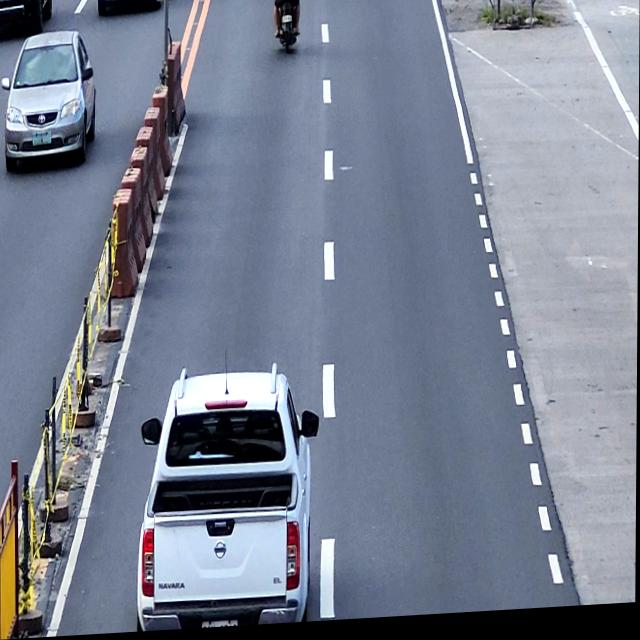Car: (136, 362, 321, 633), (1, 29, 98, 173)
License-Plate: (32, 134, 52, 147), (281, 18, 292, 27)
Motorcycle: (275, 0, 301, 57)
